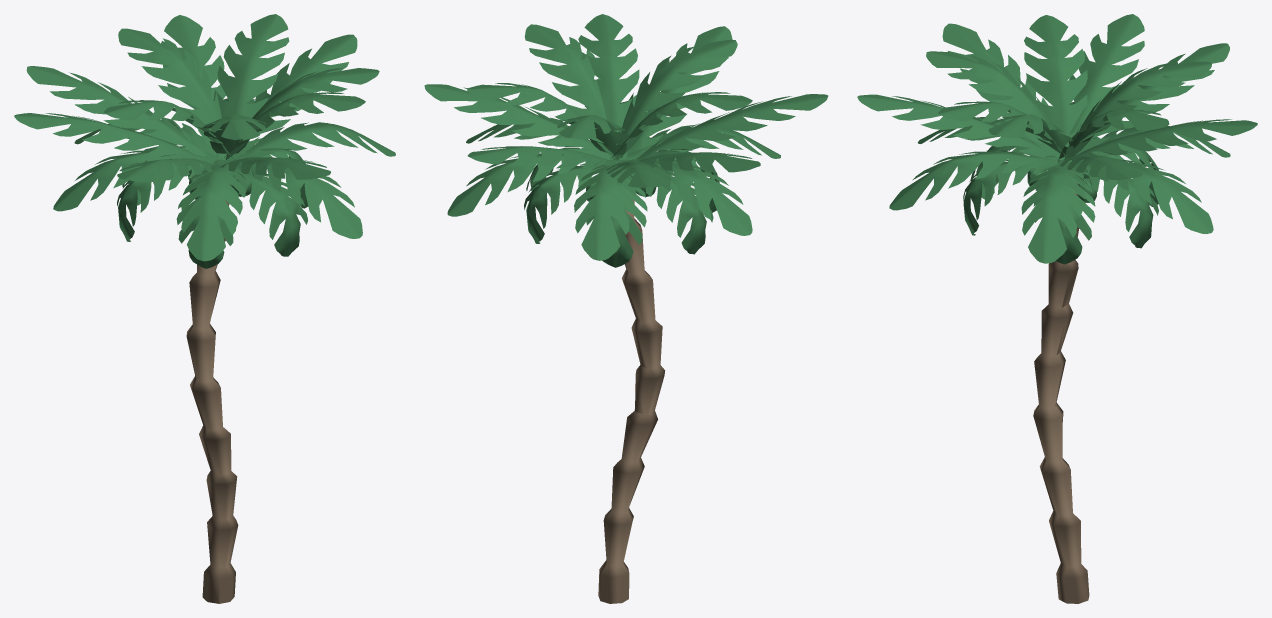
The model's file is PalmTree09.fbx.
3 renders of one model, left to right at view 1: azimuth 30°, elevation 25°; view 2: azimuth 150°, elevation 25°; view 3: azimuth 270°, elevation 25°, orthographic.
Visible parts, largest first — view 1: PalmTree09; view 2: PalmTree09; view 3: PalmTree09.
Part boxes in pixels (x1=…): PalmTree09: x1=14, y1=14, x2=395, y2=603; PalmTree09: x1=424, y1=14, x2=828, y2=603; PalmTree09: x1=857, y1=14, x2=1257, y2=603.
Bounding box in the file's own units: 0.509 × 0.7528 × 0.5246.
